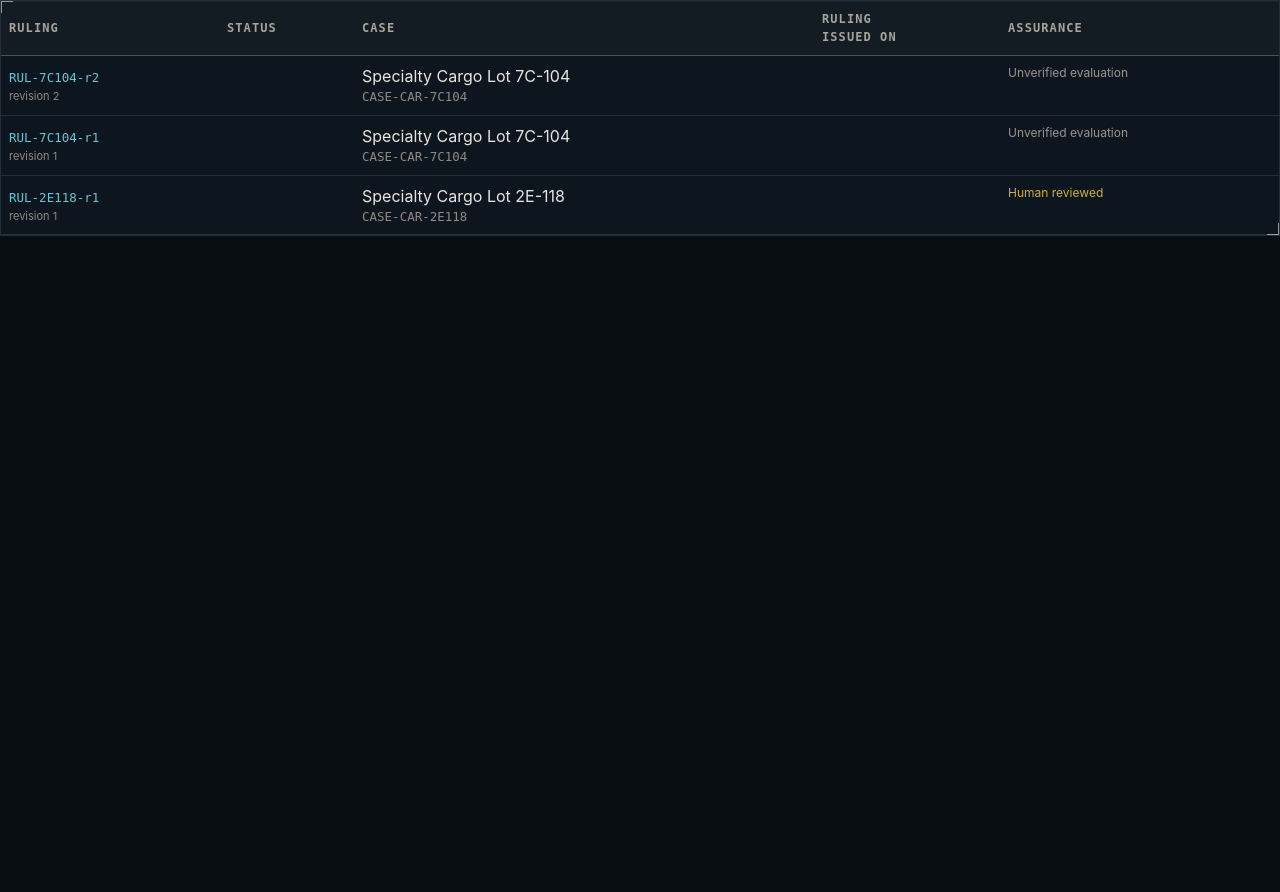
Test: one ruling, in context › opens on the ruling chosen and marks that row alone
Click the button "RUL-7C104-r1 revision 1". click: (110, 144)
box: [9,124,211,164]
(page scrolled)
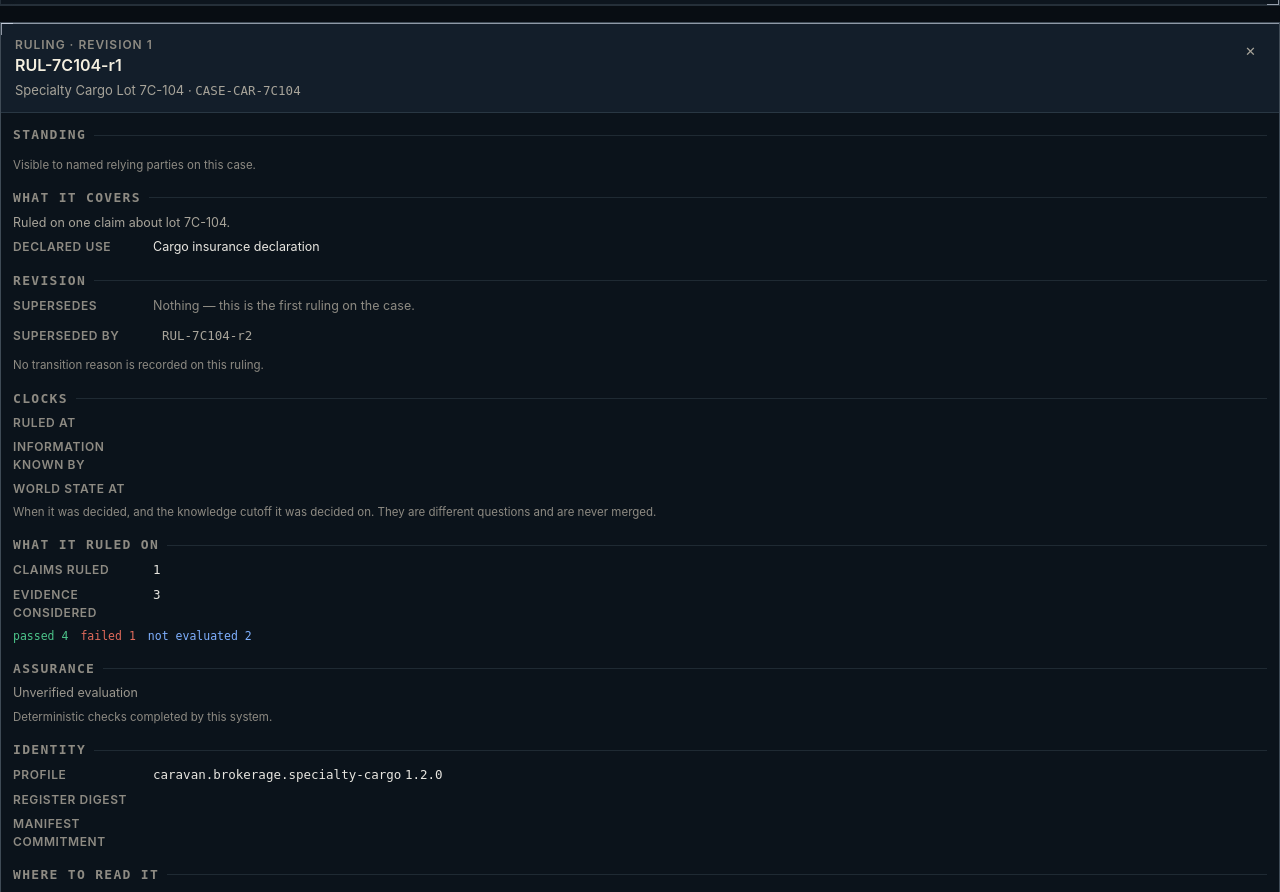
Expected: the element with test id "ruling-inspector" shows "RUL-7C104-r1", [15,55,122,75]
